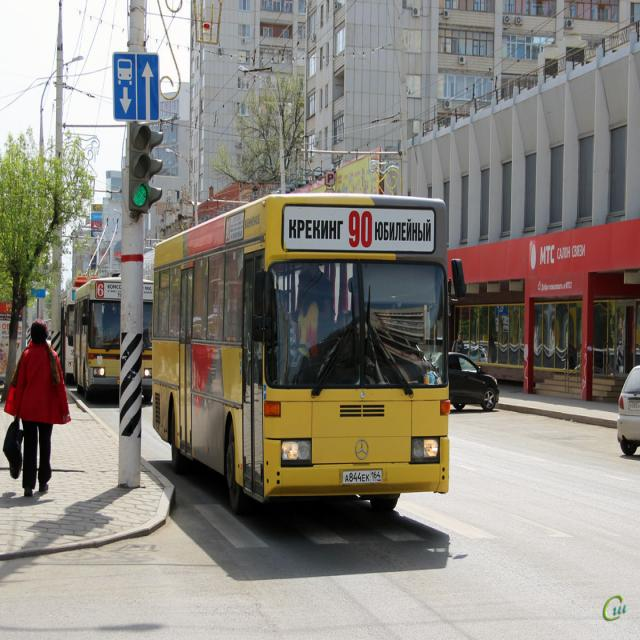number-of-bus: (348, 206, 376, 252)
